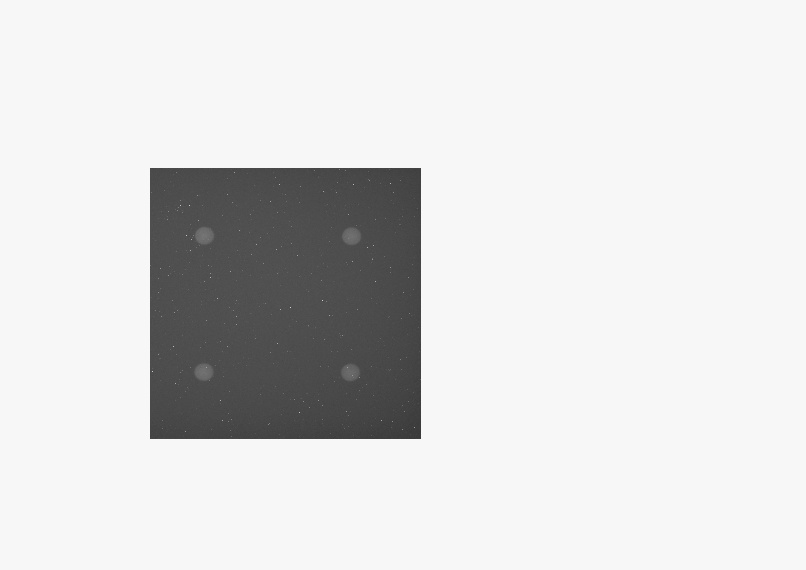bubble: (194, 226, 215, 245), (194, 363, 214, 382), (341, 227, 362, 245), (341, 363, 360, 382)
